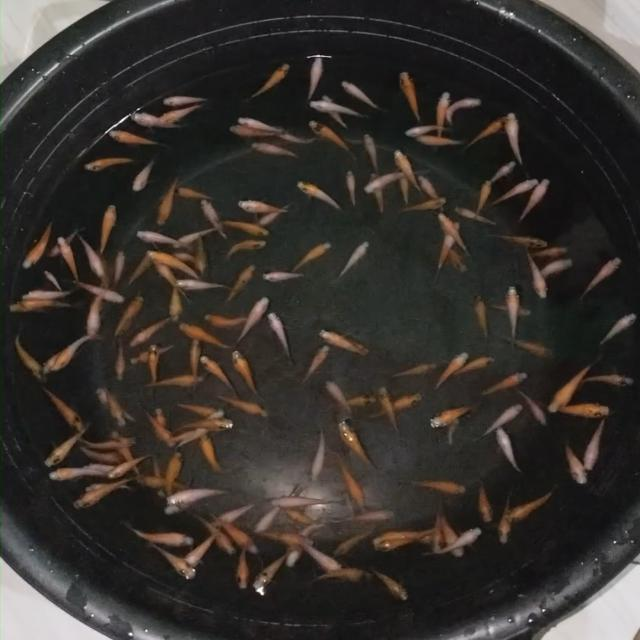nila: (543, 358, 600, 414), (120, 520, 196, 552), (37, 384, 84, 435), (44, 416, 88, 470), (284, 518, 326, 573), (338, 419, 381, 471), (41, 334, 95, 374), (176, 407, 226, 450), (505, 486, 560, 524), (363, 166, 428, 198), (311, 118, 358, 160), (187, 516, 236, 556), (292, 540, 346, 576), (254, 488, 298, 532), (213, 514, 260, 555), (296, 179, 346, 217), (474, 403, 524, 441), (144, 543, 198, 578), (494, 426, 531, 477), (364, 391, 424, 422), (250, 550, 294, 592), (236, 294, 270, 348), (182, 524, 223, 568), (426, 526, 486, 556), (340, 76, 386, 115), (74, 476, 130, 508), (264, 310, 296, 366), (14, 332, 48, 384), (580, 256, 624, 296), (432, 220, 460, 282), (248, 59, 288, 102), (95, 382, 138, 422), (200, 354, 240, 396), (366, 565, 410, 603), (432, 350, 469, 395), (178, 320, 230, 352), (111, 294, 147, 338), (22, 220, 54, 269), (126, 313, 172, 347), (112, 430, 142, 482), (496, 332, 556, 358), (269, 490, 347, 510), (306, 98, 370, 122), (154, 172, 182, 226), (253, 525, 316, 549), (487, 177, 539, 206), (437, 212, 472, 255), (480, 370, 533, 398), (442, 507, 468, 564), (155, 260, 191, 300), (518, 177, 550, 222), (429, 402, 484, 428), (464, 116, 506, 150), (209, 499, 258, 528), (338, 462, 368, 509), (144, 250, 198, 276), (514, 386, 549, 426), (596, 311, 636, 346), (584, 414, 608, 471), (336, 240, 370, 280), (307, 566, 375, 586), (232, 350, 260, 398), (562, 438, 590, 486), (108, 128, 168, 150), (99, 385, 127, 432), (409, 477, 471, 498), (376, 386, 402, 436), (397, 68, 421, 122), (72, 280, 126, 304), (395, 149, 423, 195), (226, 262, 258, 302), (291, 240, 331, 272), (300, 344, 332, 384), (142, 406, 173, 447), (506, 111, 527, 171), (282, 503, 327, 531), (333, 508, 396, 528), (133, 110, 190, 132), (81, 152, 138, 174), (448, 353, 498, 378), (318, 330, 364, 357), (135, 230, 191, 252), (76, 233, 104, 277), (326, 378, 356, 419), (434, 240, 470, 274), (250, 201, 292, 230), (416, 171, 446, 211), (524, 250, 548, 300), (75, 432, 138, 451), (131, 151, 160, 192), (486, 233, 548, 252), (200, 198, 228, 240), (57, 233, 80, 284), (318, 92, 350, 128), (174, 224, 222, 248), (109, 452, 153, 478), (444, 95, 482, 125), (552, 399, 612, 418), (130, 342, 177, 366), (214, 218, 270, 238), (170, 486, 232, 504), (20, 284, 78, 303), (161, 452, 186, 496), (250, 139, 302, 160), (44, 466, 112, 482), (140, 374, 208, 390), (499, 487, 517, 547), (134, 470, 186, 490), (218, 396, 270, 416), (232, 540, 252, 592), (373, 530, 438, 546), (332, 530, 369, 558), (172, 417, 236, 433), (52, 226, 86, 256), (578, 371, 638, 388), (386, 364, 442, 382), (505, 284, 520, 351), (308, 428, 326, 483), (535, 256, 576, 280), (398, 194, 449, 213), (98, 202, 116, 255), (234, 199, 290, 216), (236, 114, 286, 133), (176, 276, 234, 292), (156, 105, 202, 125), (471, 292, 491, 338), (276, 123, 314, 147), (221, 239, 266, 259), (393, 161, 413, 206), (9, 299, 68, 314), (307, 55, 325, 104), (144, 343, 162, 392), (362, 132, 383, 174), (367, 171, 388, 213), (476, 480, 496, 524), (73, 448, 135, 462), (428, 501, 444, 555), (416, 132, 466, 149), (331, 393, 381, 410), (452, 204, 496, 223), (197, 436, 222, 469), (226, 124, 284, 138), (86, 292, 105, 334), (473, 178, 492, 220), (94, 250, 112, 294), (130, 251, 153, 285), (177, 399, 222, 416), (436, 90, 450, 144), (525, 246, 571, 262), (488, 158, 516, 184), (405, 122, 450, 138), (173, 184, 213, 202), (82, 464, 130, 479), (372, 539, 412, 557), (490, 302, 534, 318), (203, 314, 253, 328), (444, 410, 462, 448), (113, 337, 128, 382), (196, 232, 210, 280), (260, 270, 306, 284), (154, 406, 170, 443), (160, 94, 211, 105), (170, 282, 183, 324), (168, 254, 204, 269), (170, 429, 205, 444), (188, 339, 200, 382), (44, 269, 64, 294), (161, 501, 196, 515), (345, 168, 358, 204), (116, 248, 128, 286), (151, 458, 163, 496), (344, 336, 372, 352), (85, 484, 134, 492), (418, 530, 436, 544)
